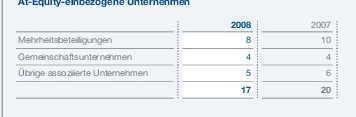table: (0, 0, 356, 117)
